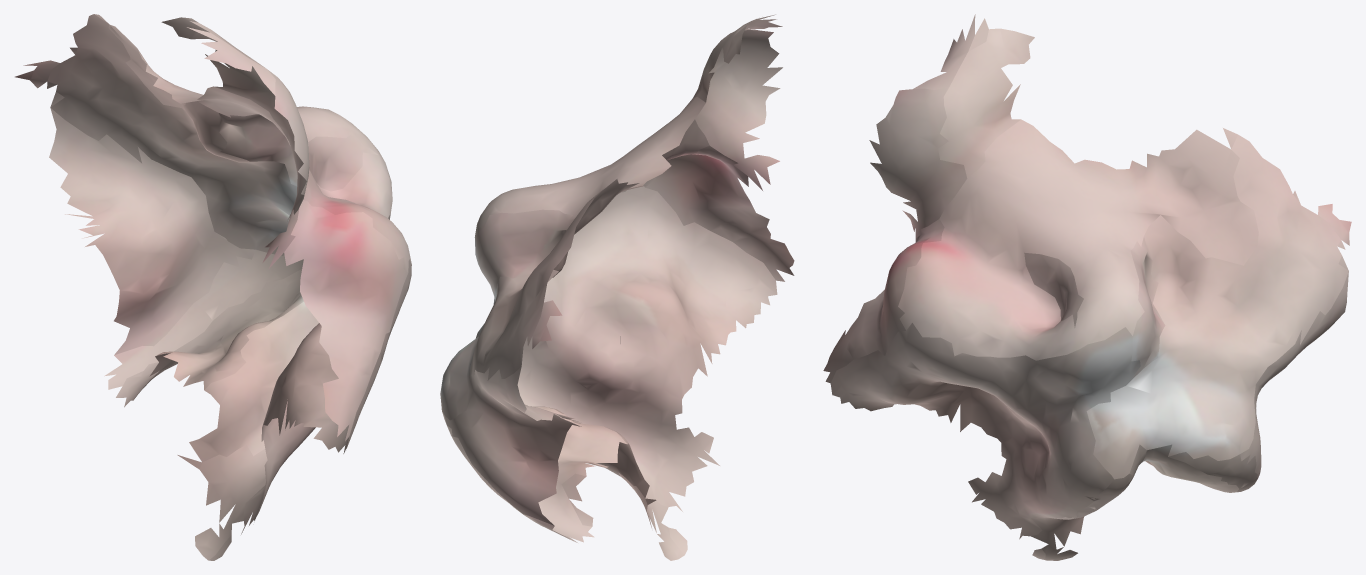
File: Aussen5.glb
3 views of the same model, side by side, from view 1: azimuth 30°, elevation 25°; view 2: azimuth 150°, elevation 25°; view 3: azimuth 270°, elevation 25° (orthographic). The views are drawn at different scales.
Size of the model in its own units: 0.8777 by 1.87 by 1.72.
1 material, 1 textured.
